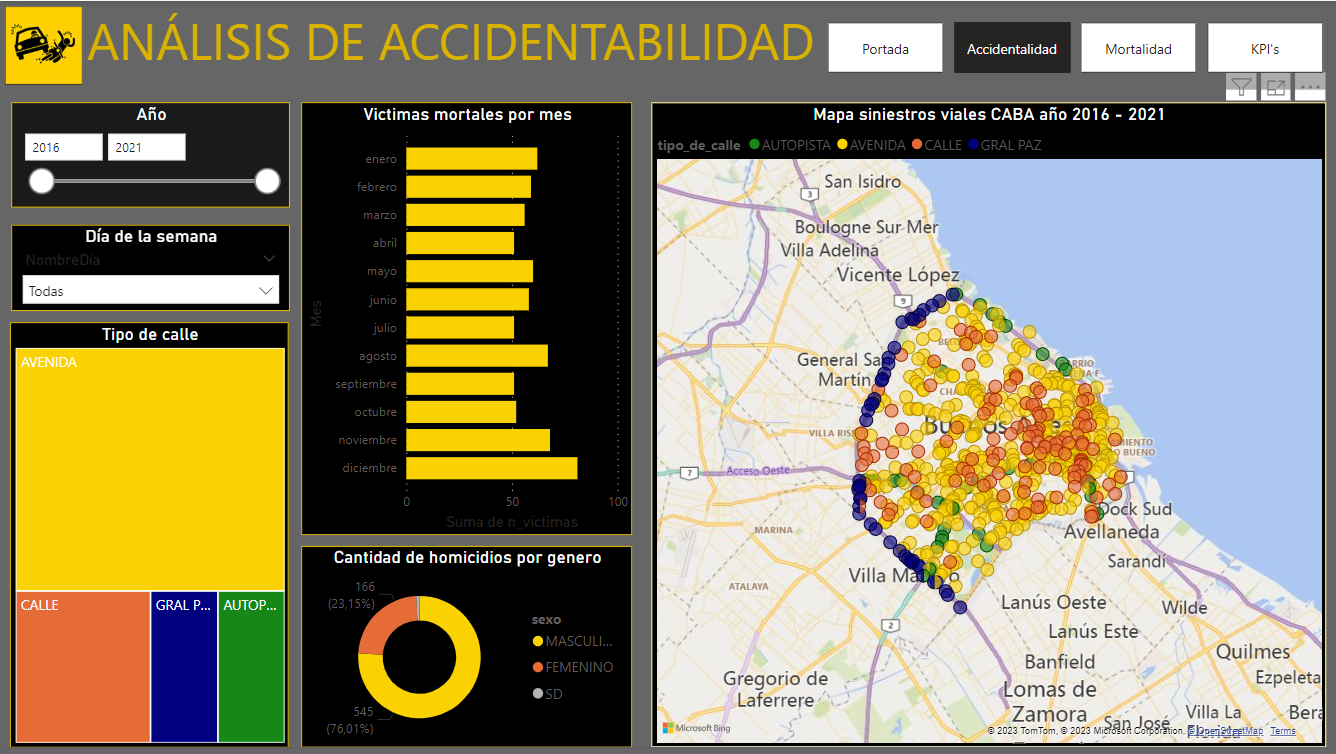

What the dashboard file says about the page in this screenshot:
{"tool":"powerbi","page":{"name":"Accidentalidad","canvas":[1280,720],"ordinal":1},"visuals":[{"type":"barChart","title":"Victimas mortales por mes","fields":{"Category":["Calendario.Fecha.Variación.Jerarquía de fechas.Mes"],"Y":["Sum(homicidios.n_victimas)"]},"box":[290.7,97.7,319.6,417.3],"z":0},{"type":"slicer","title":"Año","fields":{"Values":["Calendario.Fecha.Variación.Jerarquía de fechas.Año"]},"box":[10.9,97.7,268.9,101.3],"z":1000},{"type":"actionButton","box":[0,0,100,40],"z":2000},{"type":"treemap","title":"Tipo de calle","fields":{"Group":["homicidios.tipo_de_calle"],"Values":["Sum(homicidios.n_victimas)"]},"box":[9.6,309.9,268.9,410.1],"z":3000},{"type":"donutChart","title":"Cantidad de homicidios por genero","fields":{"Category":["homicidios_victima.sexo"],"Y":["Reduction_10porcent_Homicidios.Cantidad de homicidios"]},"box":[290.7,525.8,319.6,194.2],"z":4000},{"type":"slicer","title":"Día de la semana","fields":{"Values":["Calendario.NombreDía"]},"box":[10.9,215.9,268.9,83.2],"z":5000},{"type":"map","title":"Mapa siniestros viales CABA año 2016 - 2021","fields":{"Y":["homicidios.latitud"],"X":["homicidios.longitud"],"Series":["homicidios.tipo_de_calle"]},"box":[628.3,97.7,651.3,622.3],"z":6000},{"type":"textbox","box":[0,0,1279.6,85.6],"z":7000},{"type":"image","box":[0,0,84.4,85.6],"z":8000},{"type":"pageNavigator","box":[798.4,20.5,481.2,49.4],"z":9000}]}

Visuals, with their boxes on the page's 1280x720 design canvas (x1, y1, x2, y2). These are canvas units, not pixel positions in the 1336x754 screenshot, which may show the page scaled, cropped or inside an application window:
"Victimas mortales por mes" barChart: left=291, top=98, right=610, bottom=515
"Año" slicer: left=11, top=98, right=280, bottom=199
actionButton: left=0, top=0, right=100, bottom=40
"Tipo de calle" treemap: left=10, top=310, right=278, bottom=720
"Cantidad de homicidios por genero" donutChart: left=291, top=526, right=610, bottom=720
"Día de la semana" slicer: left=11, top=216, right=280, bottom=299
"Mapa siniestros viales CABA año 2016 - 2021" map: left=628, top=98, right=1280, bottom=720
textbox: left=0, top=0, right=1280, bottom=86
image: left=0, top=0, right=84, bottom=86
pageNavigator: left=798, top=20, right=1280, bottom=70
